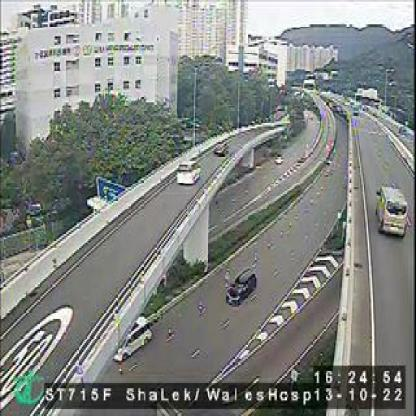Car: (375, 186, 411, 237), (225, 266, 259, 306), (177, 157, 199, 184), (214, 141, 228, 156)
